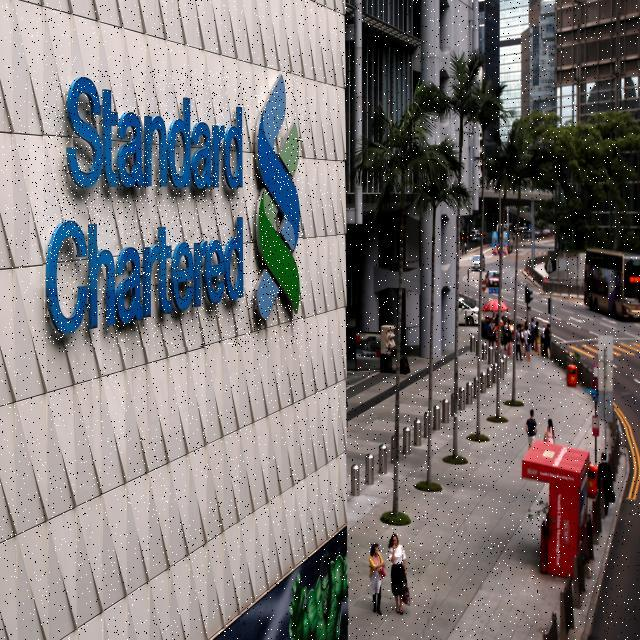Standard Chartered: (44, 72, 304, 348)
